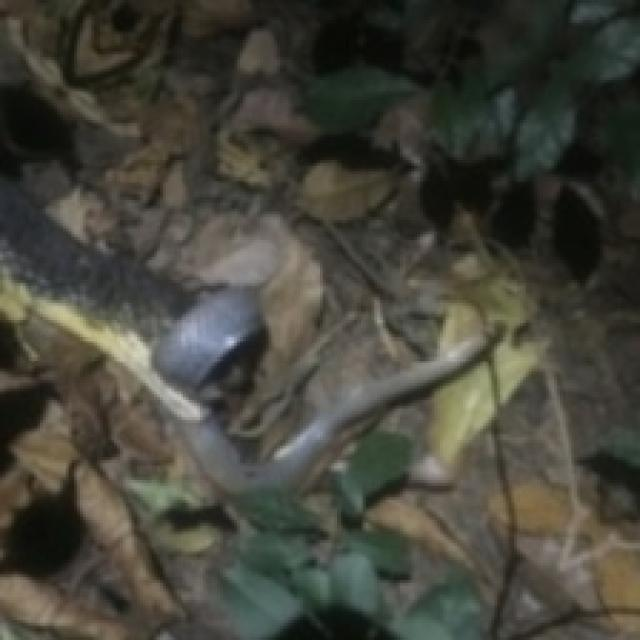king cobra: (0, 0, 511, 494)
